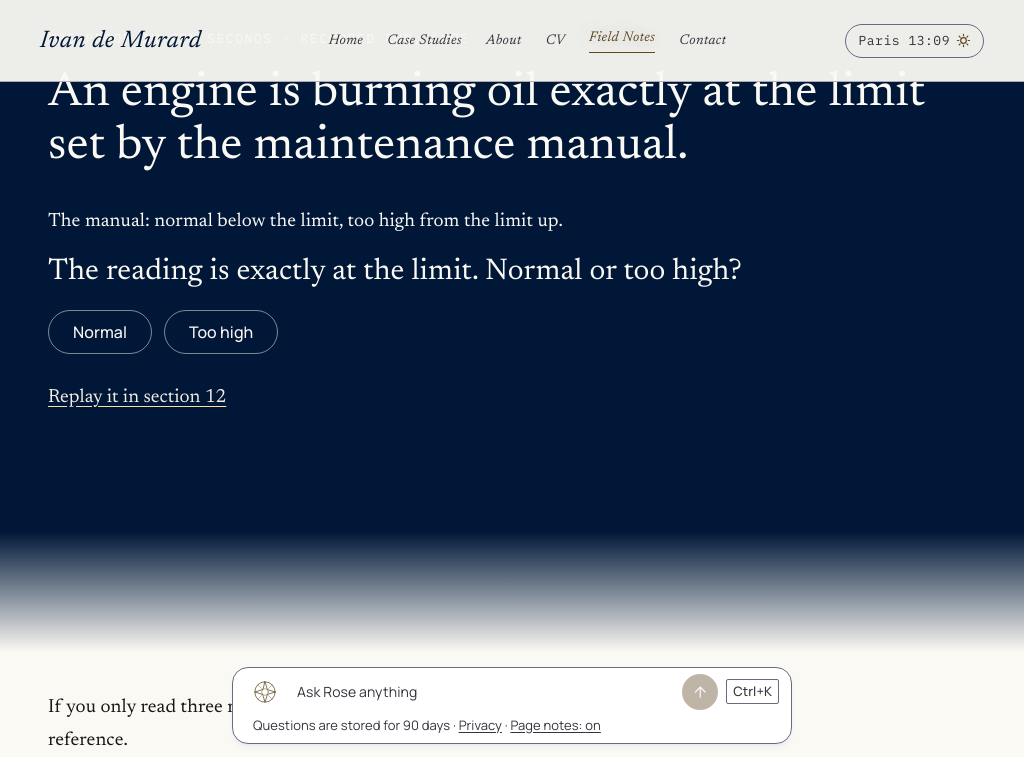
The peak asks first › after Too high: one polite status line, then the three boxes
(page scrolled)
Click the button "Too high" at (221, 332), box [164,310,278,354]
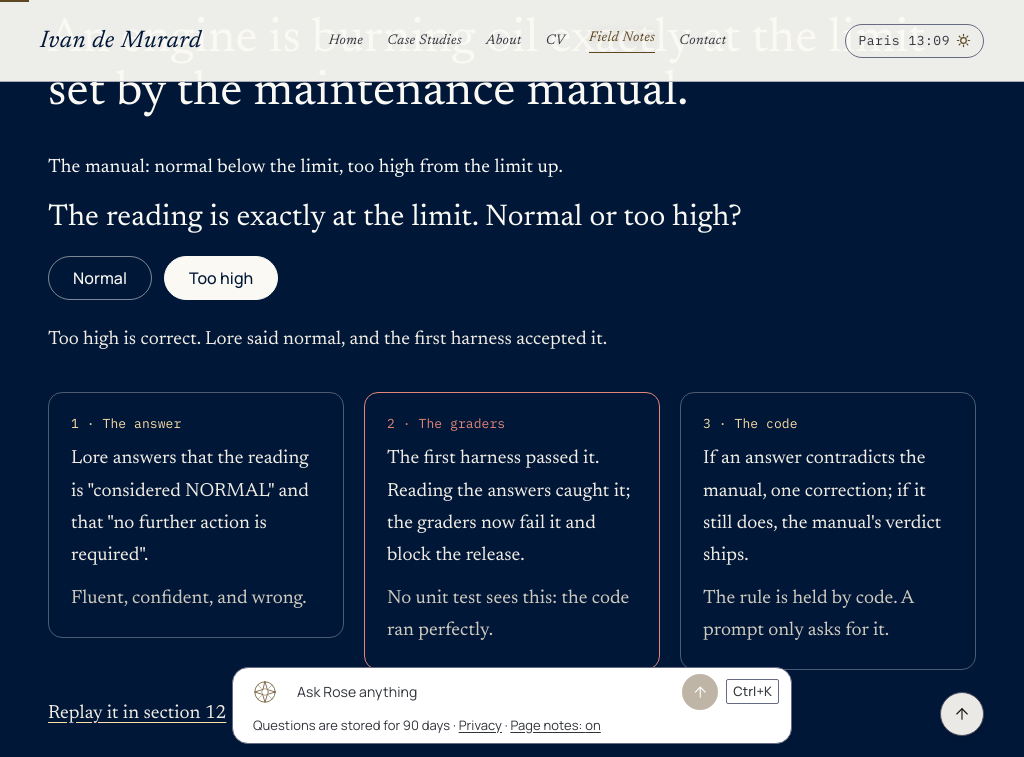
Expected: the message "Too high is correct. Lore said normal, and the first harness accepted it." is shown, [48,330,607,349]
Expected: the element named "Peak moment: the replay" shows "1 · The answer", [71,415,181,432]
Expected: the element named "Peak moment: the replay" shows "2 · The graders", [387,415,505,432]
